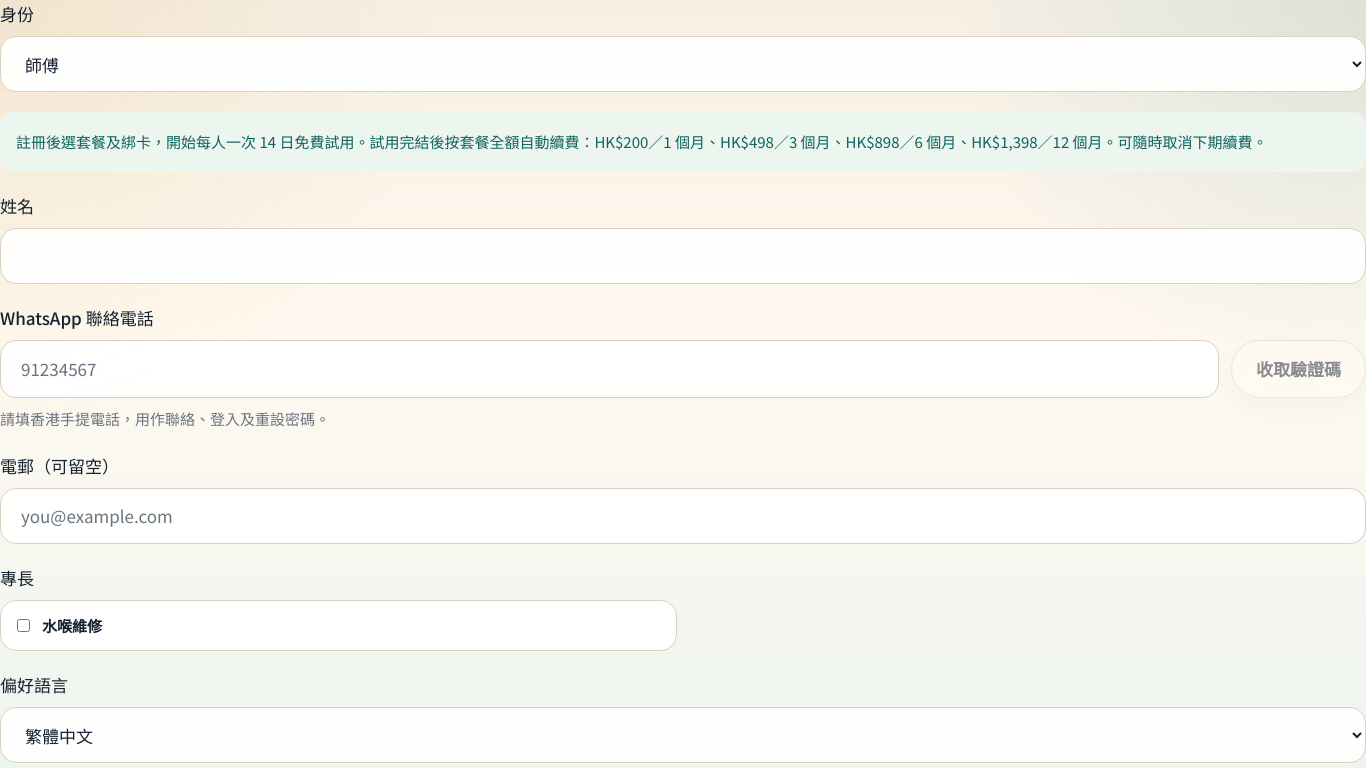
Test: signup phone verification form › preselects the pro entry without bypassing phone verification and still lets the user change role
Expected: the checkbox labelled "水喉維修" is shown, [17,619,30,632]
Expected: the text "試用完結後按套餐全額自動續費：HK$200／1 個月" is shown, [279,131,1268,152]
Select "客戶" in the dropdown labelled "身份" at (683,64), box [0,36,1365,92]
(page scrolled)
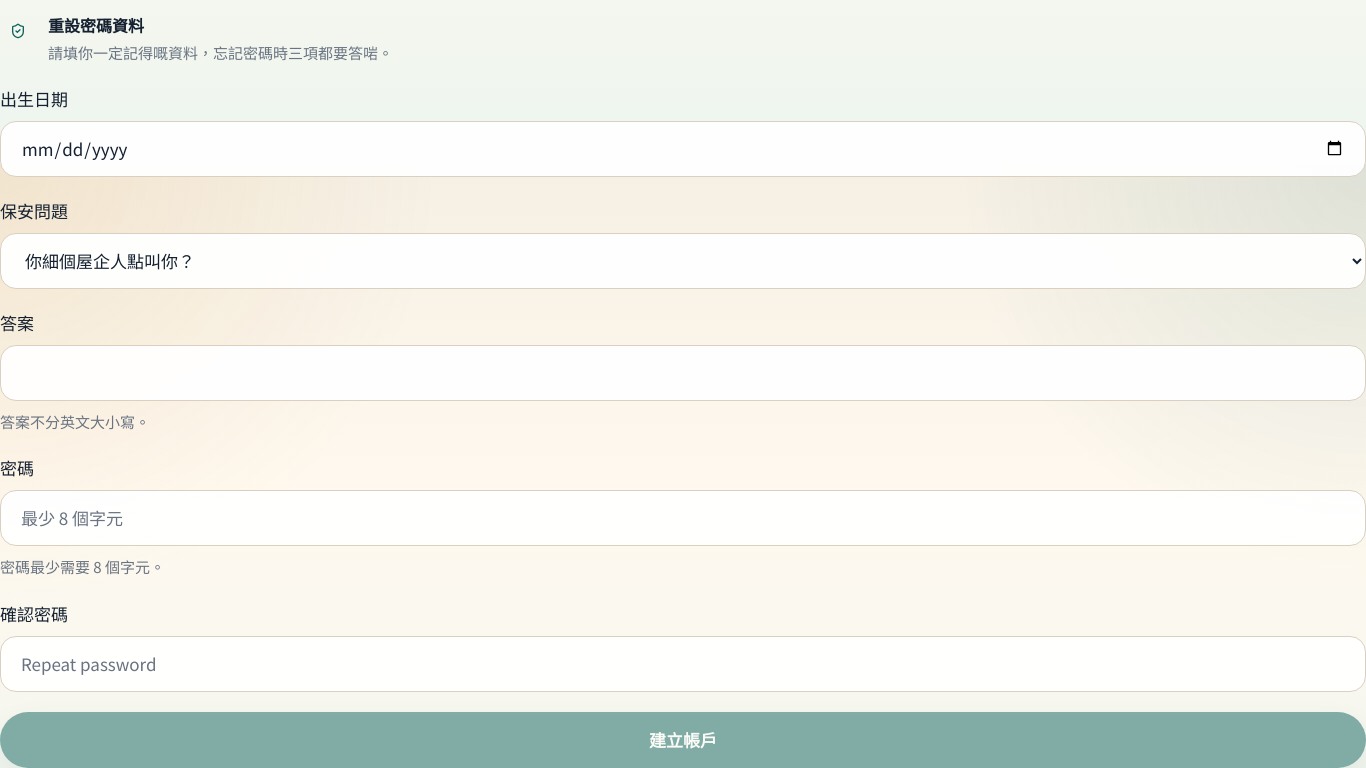
Expected: the button "建立帳戶" is disabled, [0,712,1365,767]
Now the checkbox is gone
Now the text "試用完結後按套餐全額自動續費" is gone
